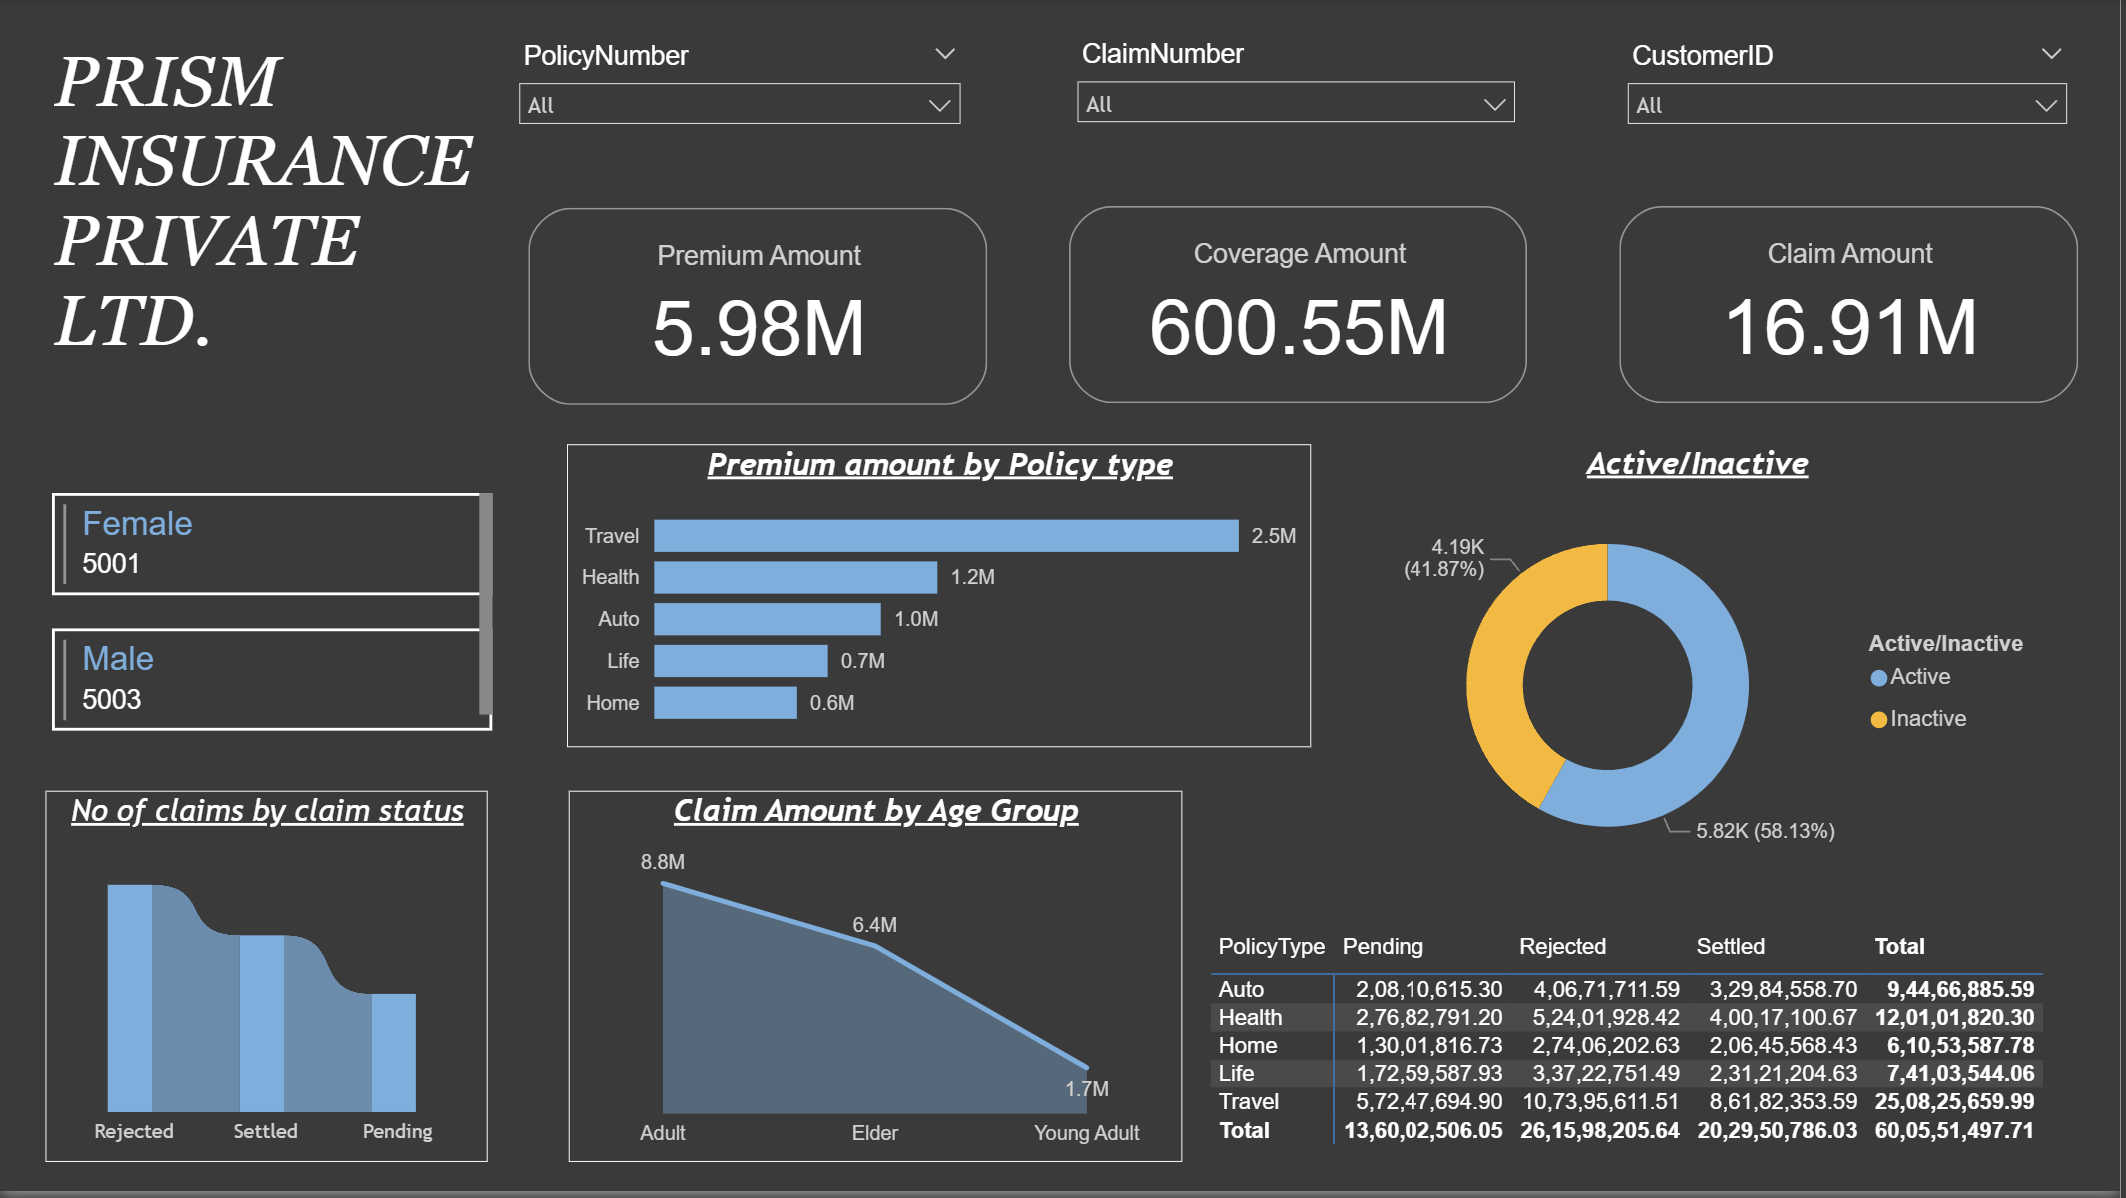

What the dashboard file says about the page in this screenshot:
{"tool":"powerbi","page":{"name":"Page 1","canvas":[1280,720],"ordinal":0},"visuals":[{"type":"slicer","fields":{"Values":["InsuranceData.PolicyNumber"]},"box":[302.6,20.6,286.4,77],"z":0},{"type":"slicer","fields":{"Values":["InsuranceData.ClaimNumber"]},"box":[640.2,19.5,285.1,77],"z":1000},{"type":"slicer","fields":{"Values":["InsuranceData.CustomerID"]},"box":[972.8,21,285.2,76.5],"z":2000},{"type":"textbox","box":[27.2,21,266.7,261.7],"z":3000},{"type":"cardVisual","fields":{"Data":["Sum(InsuranceData.PremiumAmount)"]},"box":[314,121,287.4,129.9],"z":4000},{"type":"cardVisual","fields":{"Data":["Sum(InsuranceData.CoverageAmount)"]},"box":[640.2,120.7,287.4,129.9],"z":5000},{"type":"cardVisual","fields":{"Data":["Sum(InsuranceData.ClaimAmount)"]},"box":[972.4,120.7,287.4,129.9],"z":6000},{"type":"multiRowCard","fields":{"Values":["InsuranceData.Gender","CountNonNull(InsuranceData.Gender)"]},"box":[26.4,293.1,275.9,158.6],"z":7000},{"type":"ribbonChart","title":"No of claims by claim status","fields":{"Category":["InsuranceData.ClaimStatus"],"Y":["CountNonNull(InsuranceData.ClaimStatus)"]},"box":[27.6,478.2,266.7,224.1],"z":7001},{"type":"barChart","title":"Premium amount by Policy type","fields":{"Category":["InsuranceData.PolicyType"],"Y":["Sum(InsuranceData.PremiumAmount)"]},"box":[342.5,269,449.4,182.8],"z":7002},{"type":"lineChart","title":"Claim Amount by Age Group","fields":{"Category":["InsuranceData.Age Group"],"Y":["Sum(InsuranceData.ClaimAmount)"]},"box":[343.7,478.2,370.1,224.1],"z":7003},{"type":"donutChart","title":"Active/Inactive","fields":{"Category":["InsuranceData.Active/Inactive"],"Y":["CountNonNull(InsuranceData.Active/Inactive)"]},"box":[808,269,434.5,269],"z":7004},{"type":"pivotTable","fields":{"Values":["Sum(InsuranceData.CoverageAmount)"],"Rows":["InsuranceData.PolicyType"],"Columns":["InsuranceData.ClaimStatus"]},"box":[725.3,558.6,517.2,143.7],"z":7005}]}

Visuals, with their boxes in screenshot pixels (x1, y1, x2, y2), scaled from the page's 1280x720 canvas onto the 2126x1198 screenshot:
slicer - InsuranceData.PolicyNumber: 503:34:978:162
slicer - InsuranceData.ClaimNumber: 1063:32:1537:161
slicer - InsuranceData.CustomerID: 1616:35:2089:162
textbox: 45:35:488:470
cardVisual - Sum(InsuranceData.PremiumAmount): 522:201:999:417
cardVisual - Sum(InsuranceData.CoverageAmount): 1063:201:1541:417
cardVisual - Sum(InsuranceData.ClaimAmount): 1615:201:2092:417
multiRowCard - InsuranceData.Gender x CountNonNull(InsuranceData.Gender): 44:488:502:752
"No of claims by claim status" ribbonChart: 46:796:489:1169
"Premium amount by Policy type" barChart: 569:448:1315:752
"Claim Amount by Age Group" lineChart: 571:796:1186:1169
"Active/Inactive" donutChart: 1342:448:2064:895
pivotTable - Sum(InsuranceData.CoverageAmount) x InsuranceData.PolicyType: 1205:929:2064:1169
